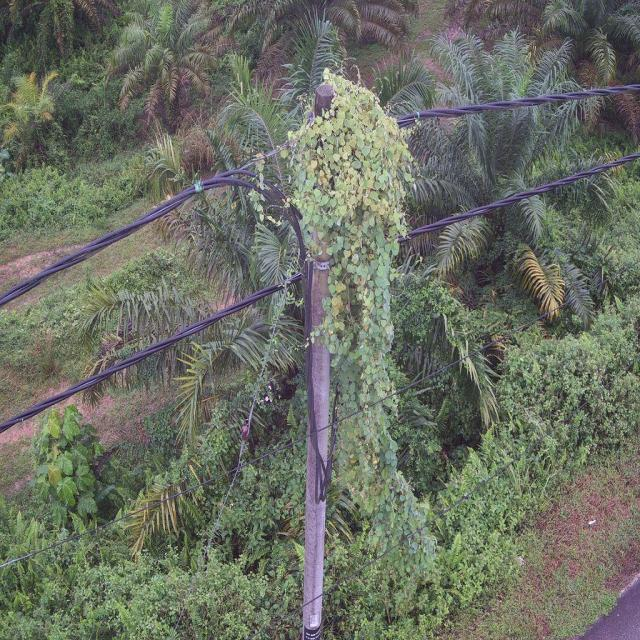light_pole: (260, 56, 430, 564)
